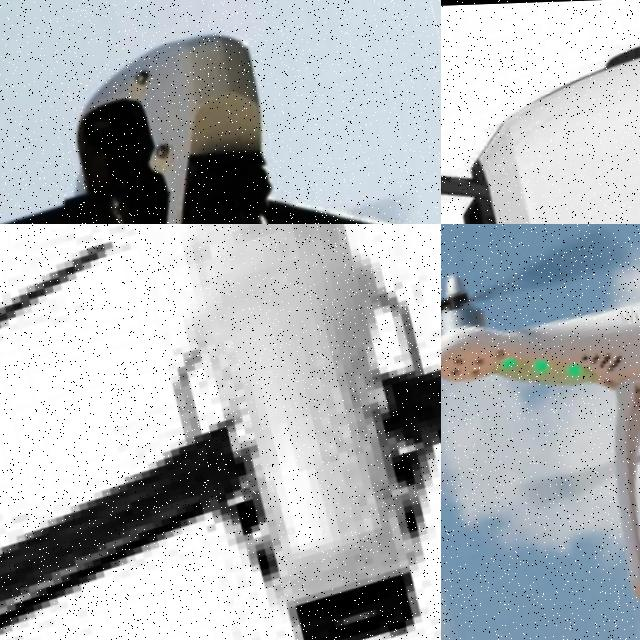drone: (0, 224, 441, 640), (0, 0, 441, 224), (441, 224, 640, 640), (441, 0, 640, 224)
